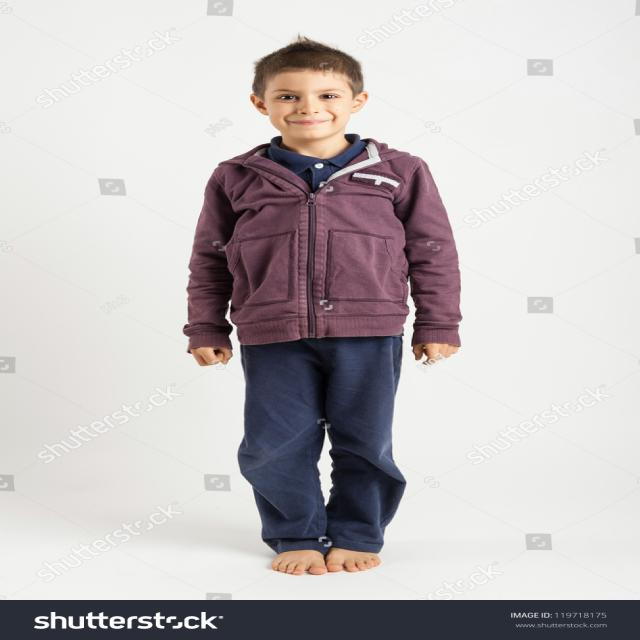child: (116, 17, 490, 580)
